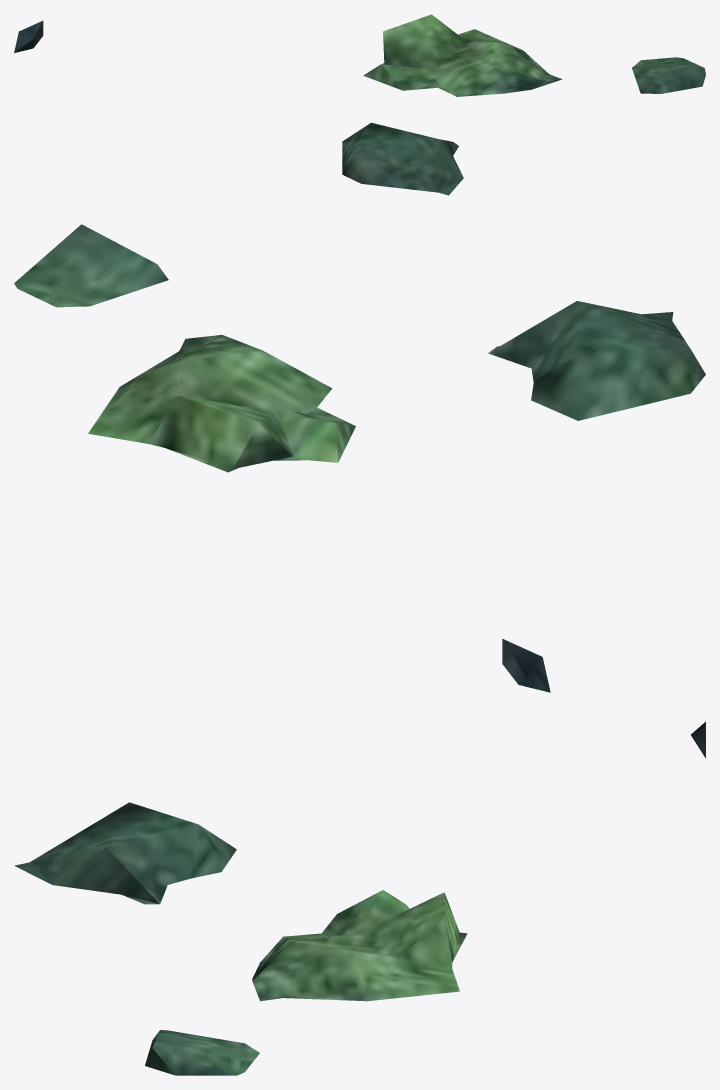
3 views of the same model, one above another, from view 1: azimuth 30°, elevation 25°; view 2: azimuth 150°, elevation 25°; view 3: azimuth 270°, elevation 25° (orthographic). The views are drawn at different scales.
Parts seen in each view (by area): view 1: 30436272704361735536_0; view 2: 30436272704361735536_0; view 3: 30436272704361735536_0.
Boxes of the visible parts, <box> form: 30436272704361735536_0: <box>14,14,705,195</box>; 30436272704361735536_0: <box>14,224,705,692</box>; 30436272704361735536_0: <box>14,721,705,1075</box>.
Bounding box in the file's own units: 15.65 × 0.9272 × 13.88.
Materials: 1 (1 with a texture image).
